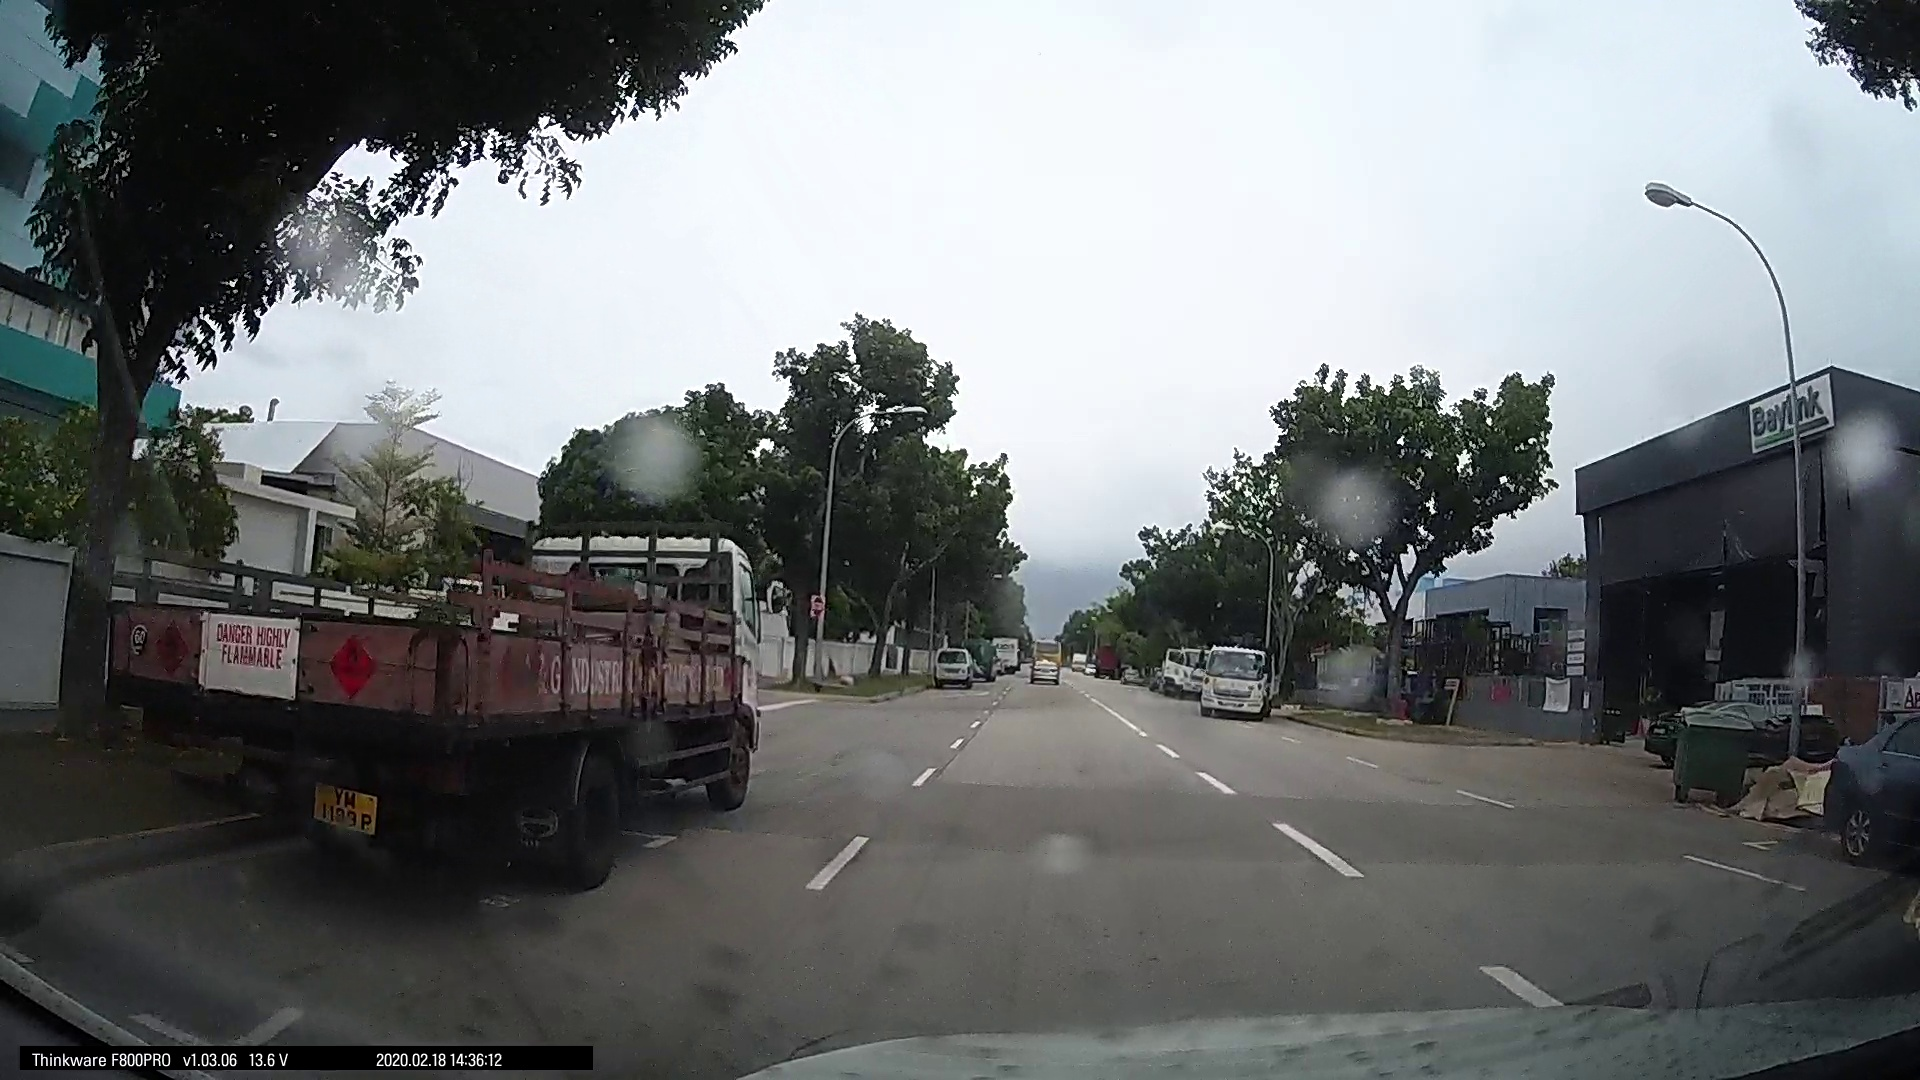Heavy Vehicle: (127, 517, 787, 862)
Light Vehicle: (1818, 698, 1917, 862), (1193, 641, 1273, 717), (924, 640, 978, 688), (1154, 649, 1200, 696), (1023, 647, 1059, 680)
